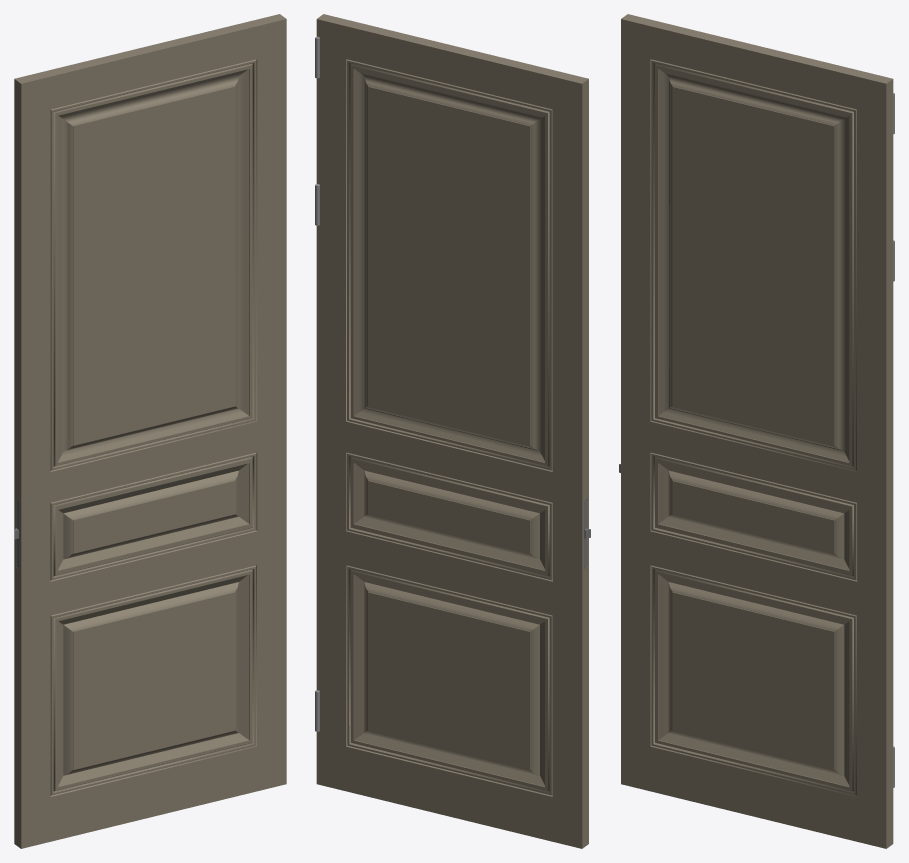
Rendered from 13_LONDON_Door.glb.
The picture shows the model from 3 angles, left to right: view 1: azimuth 30°, elevation 25°; view 2: azimuth 150°, elevation 25°; view 3: azimuth 330°, elevation 25°; orthographic projection.
Visible parts, largest first — view 1: 13_LONDON_Door; view 2: 13_LONDON_Door; view 3: 13_LONDON_Door.
Part boxes in pixels (x1=…): 13_LONDON_Door: x1=14, y1=14, x2=286, y2=848; 13_LONDON_Door: x1=315, y1=14, x2=590, y2=848; 13_LONDON_Door: x1=619, y1=14, x2=894, y2=848.
Size of the model in its own units: 0.8122 by 2.2 by 0.0533.
